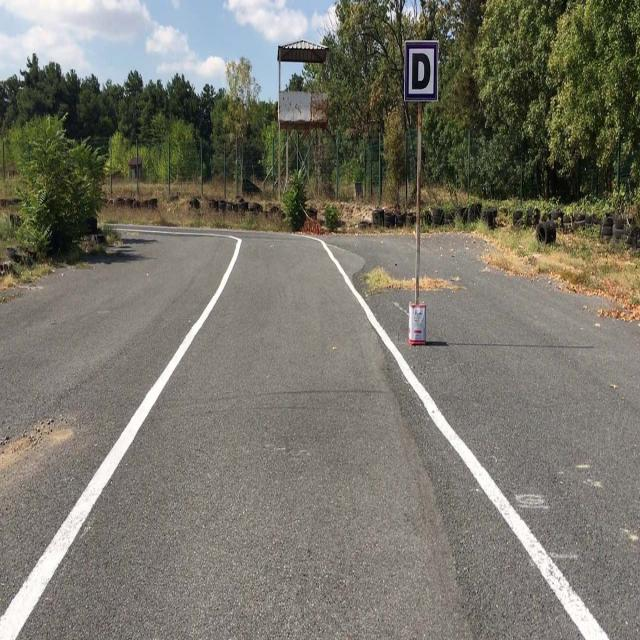durak: (404, 42, 438, 101)
